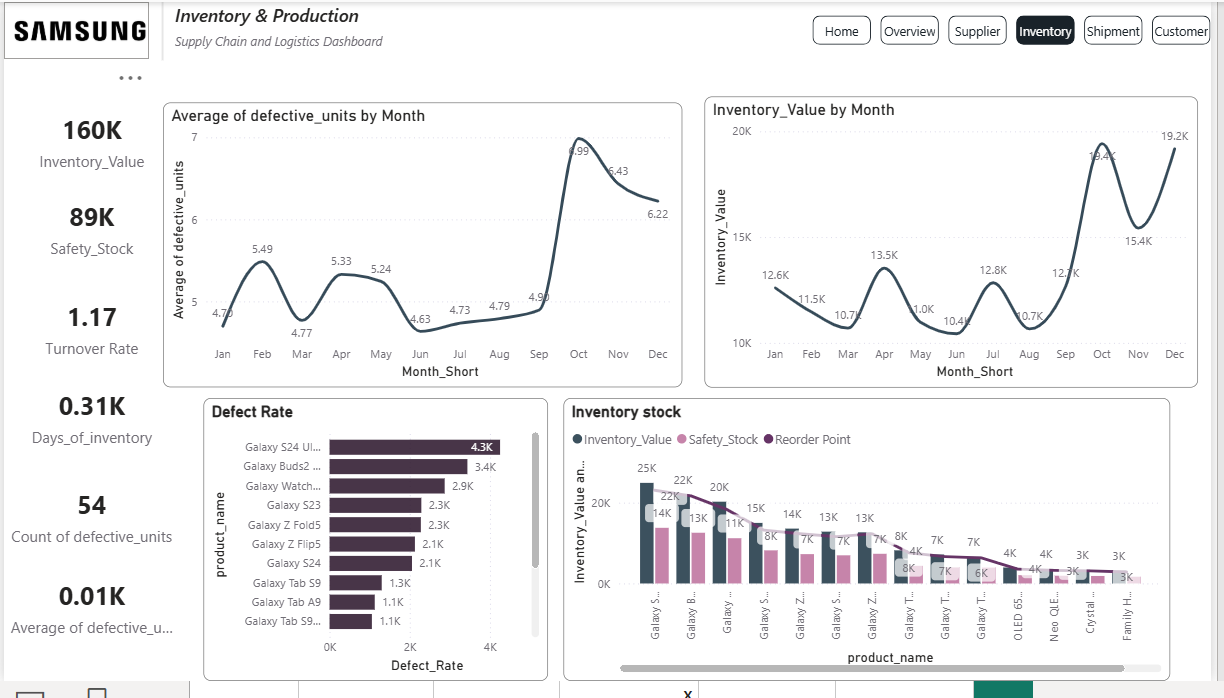

Layout of this report page (visuals, bound fields, positions):
{"tool":"powerbi","page":{"name":"Inventory","canvas":[1280,720],"ordinal":3},"visuals":[{"type":"shape","title":"Inventory & Production","box":[181.6,2.1,240,60.5],"z":0},{"type":"shape","box":[154.6,0,27.7,61.8],"z":1000},{"type":"image","box":[0,0,154.6,60.2],"z":2000},{"type":"card","fields":{"Values":["MeasuresTable.Inventory_Value"]},"box":[0,106.4,185.7,79.3],"z":3000},{"type":"card","fields":{"Values":["MeasuresTable.Turnover Rate"]},"box":[0,304.7,185.7,79.3],"z":4000},{"type":"card","fields":{"Values":["MeasuresTable.Days of inventory"]},"box":[0,398.6,185.7,79.3],"z":5000},{"type":"card","fields":{"Values":["Count(fact_production.defective_units)"]},"box":[0,504,185.5,80],"z":6000},{"type":"card","fields":{"Values":["Avg(fact_production.defective_units)"]},"box":[0,599,185.7,81.4],"z":7000},{"type":"card","fields":{"Values":["MeasuresTable.Safety_Stock"]},"box":[0,198.4,185.6,80],"z":8000},{"type":"clusteredBarChart","title":"Defect Rate ","fields":{"Category":["dim_product.product_name"],"Y":["MeasuresTable.Defect_Rate"]},"box":[210.9,419.6,365.2,300],"z":9000},{"type":"lineClusteredColumnComboChart","title":"Inventory stock","fields":{"Category":["dim_product.product_name"],"Y":["MeasuresTable.Inventory_Value","MeasuresTable.Safety_Stock"],"Y2":["MeasuresTable.Reorder Point"]},"box":[593.5,419.6,643.5,300],"z":10000},{"type":"lineChart","title":"Inventory_Value by Month","fields":{"Category":["dim_date.Month_Short"],"Y":["MeasuresTable.Inventory_Value"]},"box":[742.8,100.2,523.3,308.6],"z":11000},{"type":"lineChart","title":"Average of defective_units by Month","fields":{"Y":["Avg(fact_production.defective_units)"],"Category":["dim_date.Month_Short"]},"box":[168.1,107.3,550.9,301.8],"z":12000},{"type":"pageNavigator","box":[857.3,14.3,423.1,31.8],"z":12001}]}

Visuals, with their boxes in screenshot pixels (x1, y1, x2, y2), scaled from the page's 1280x720 canvas onto the 1224x698 screenshot:
"Inventory & Production" shape: bbox=(174, 2, 403, 61)
shape: bbox=(148, 0, 174, 60)
image: bbox=(0, 0, 148, 58)
card - MeasuresTable.Inventory_Value: bbox=(0, 103, 178, 180)
card - MeasuresTable.Turnover Rate: bbox=(0, 295, 178, 372)
card - MeasuresTable.Days of inventory: bbox=(0, 386, 178, 463)
card - Count(fact_production.defective_units): bbox=(0, 489, 177, 566)
card - Avg(fact_production.defective_units): bbox=(0, 581, 178, 660)
card - MeasuresTable.Safety_Stock: bbox=(0, 192, 177, 270)
"Defect Rate " clusteredBarChart: bbox=(202, 407, 551, 697)
"Inventory stock" lineClusteredColumnComboChart: bbox=(568, 407, 1183, 697)
"Inventory_Value by Month" lineChart: bbox=(710, 97, 1211, 396)
"Average of defective_units by Month" lineChart: bbox=(161, 104, 688, 397)
pageNavigator: bbox=(820, 14, 1223, 45)
